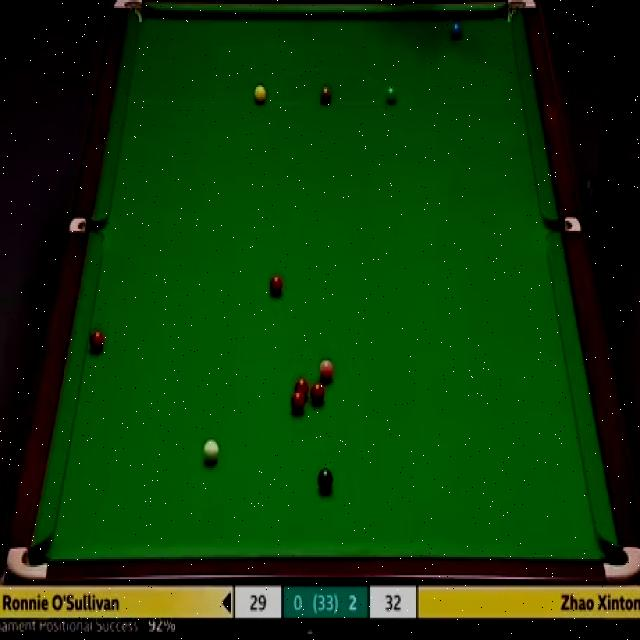black-ball: (316, 467, 333, 494)
blue-ball: (452, 22, 462, 42)
brown-ball: (319, 87, 332, 104)
green-ball: (384, 83, 399, 107)
pink-ball: (318, 358, 334, 382)
red-ball: (88, 329, 106, 354), (310, 382, 326, 406), (294, 377, 308, 401), (268, 275, 284, 295), (291, 391, 305, 412)
white-ball: (202, 438, 219, 466)
yellow-ball: (253, 84, 267, 105)
